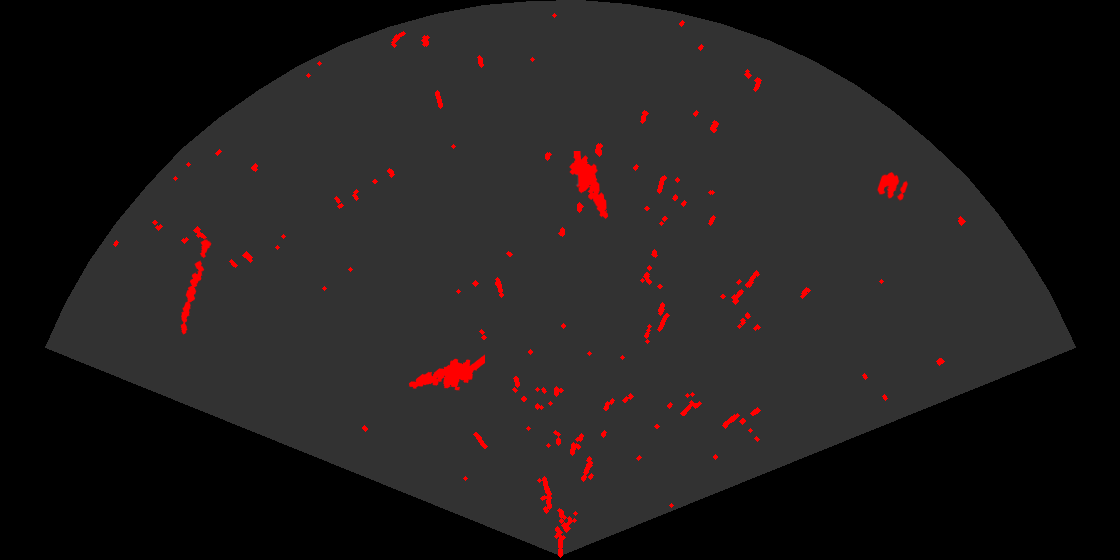ball: (875, 171, 910, 203)
chain: (179, 237, 213, 336)
frogman: (407, 353, 485, 392), (568, 151, 610, 221)
